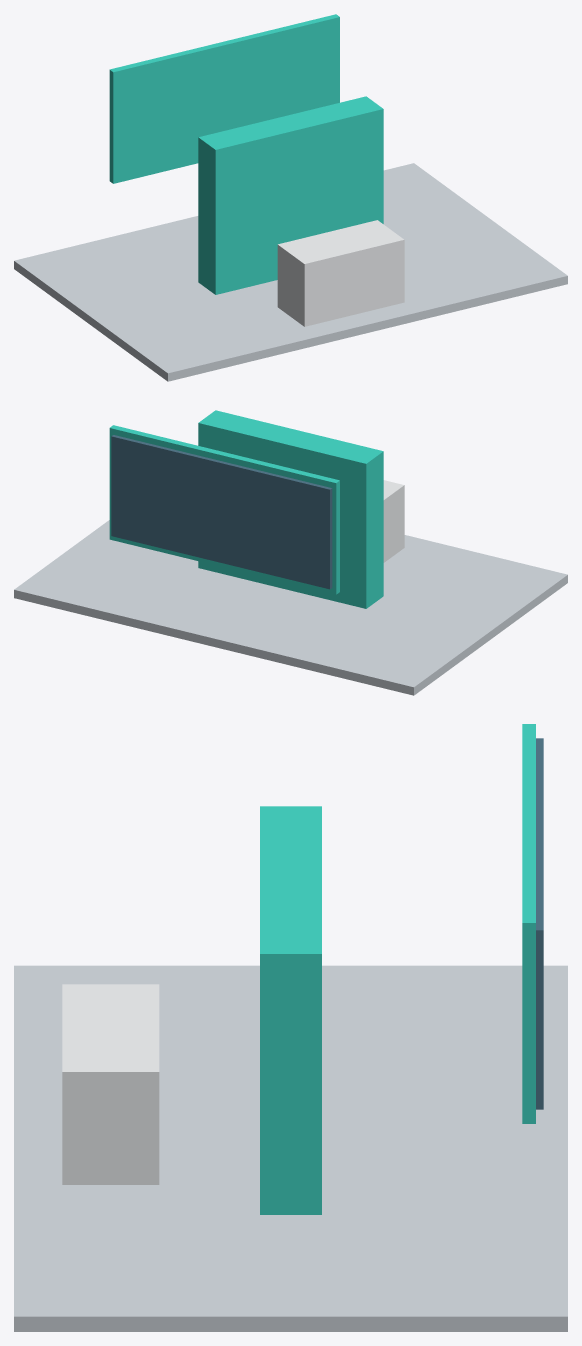
3 views of the same model, one above another, from view 1: azimuth 30°, elevation 25°; view 2: azimuth 150°, elevation 25°; view 3: azimuth 270°, elevation 25° (orthographic). The views are drawn at different scales.
Visible parts, largest first — view 1: Exhibition Booth Concept; view 2: Exhibition Booth Concept; view 3: Exhibition Booth Concept.
Boxes of the visible parts, x1,y1,x2,y2 form: Exhibition Booth Concept: [14, 14, 567, 381]; Exhibition Booth Concept: [14, 410, 567, 695]; Exhibition Booth Concept: [14, 724, 567, 1331].
Bounding box in the file's own units: 6 × 2.65 × 4.
